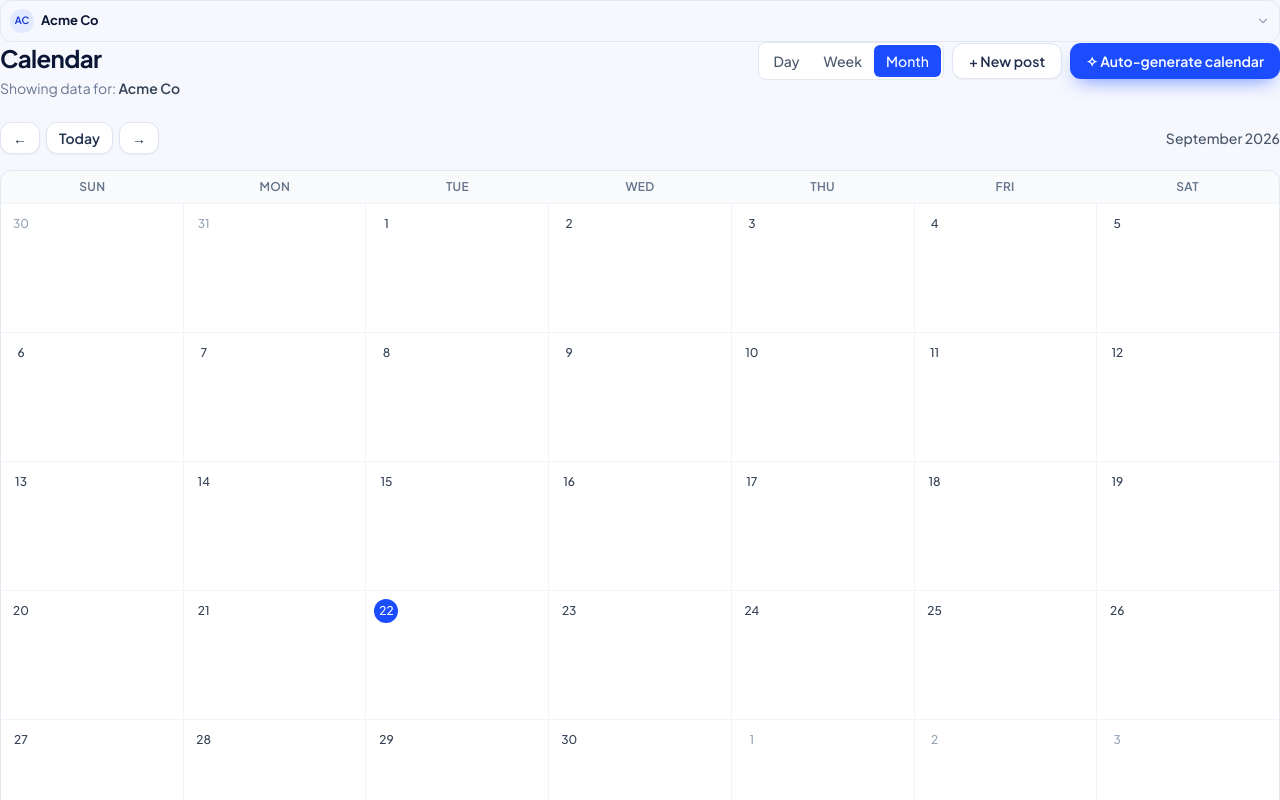
Scenario: CalendarPage › creates a new event through the form and round-trips it through the API
The image size is (1280, 800).
Click the button "+ New post": (1007, 60) [952,42,1062,78]
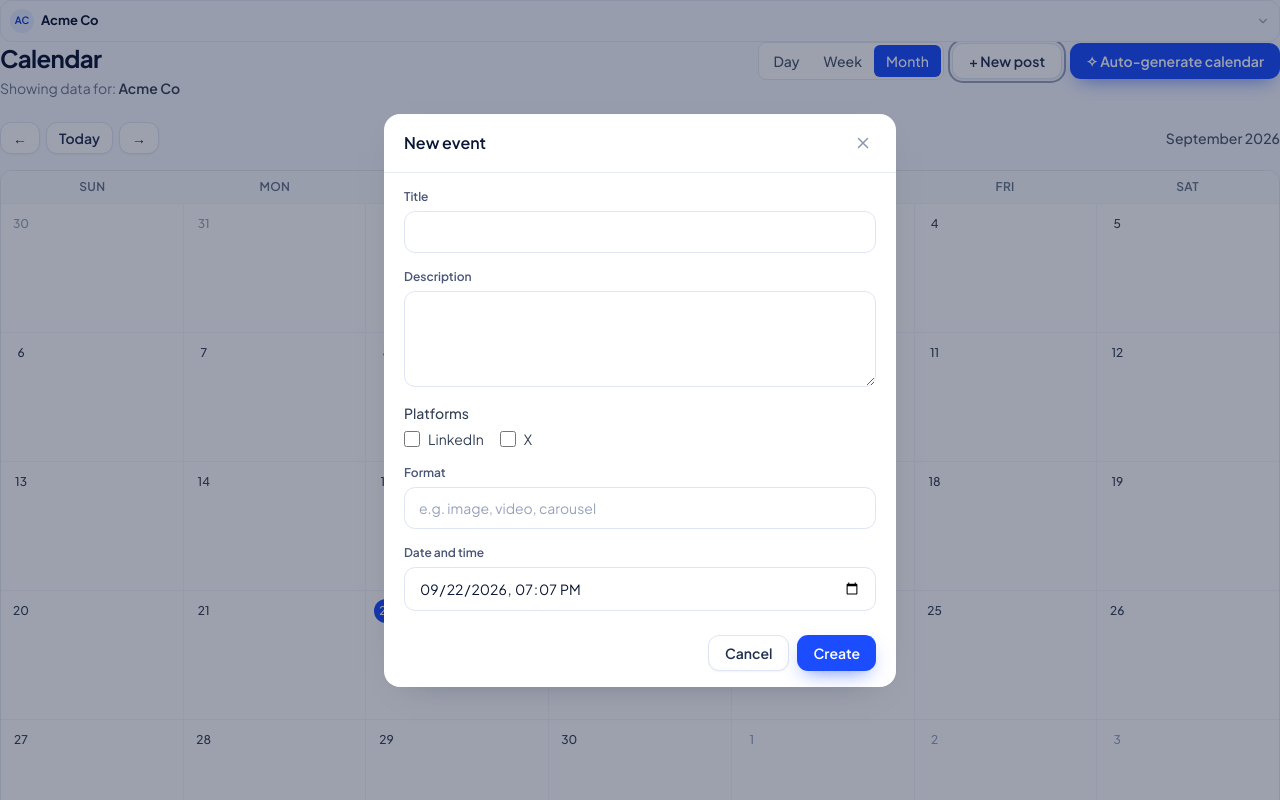
In the field labelled "Title": (640, 232) [404,210,876,252], type "New Launch"
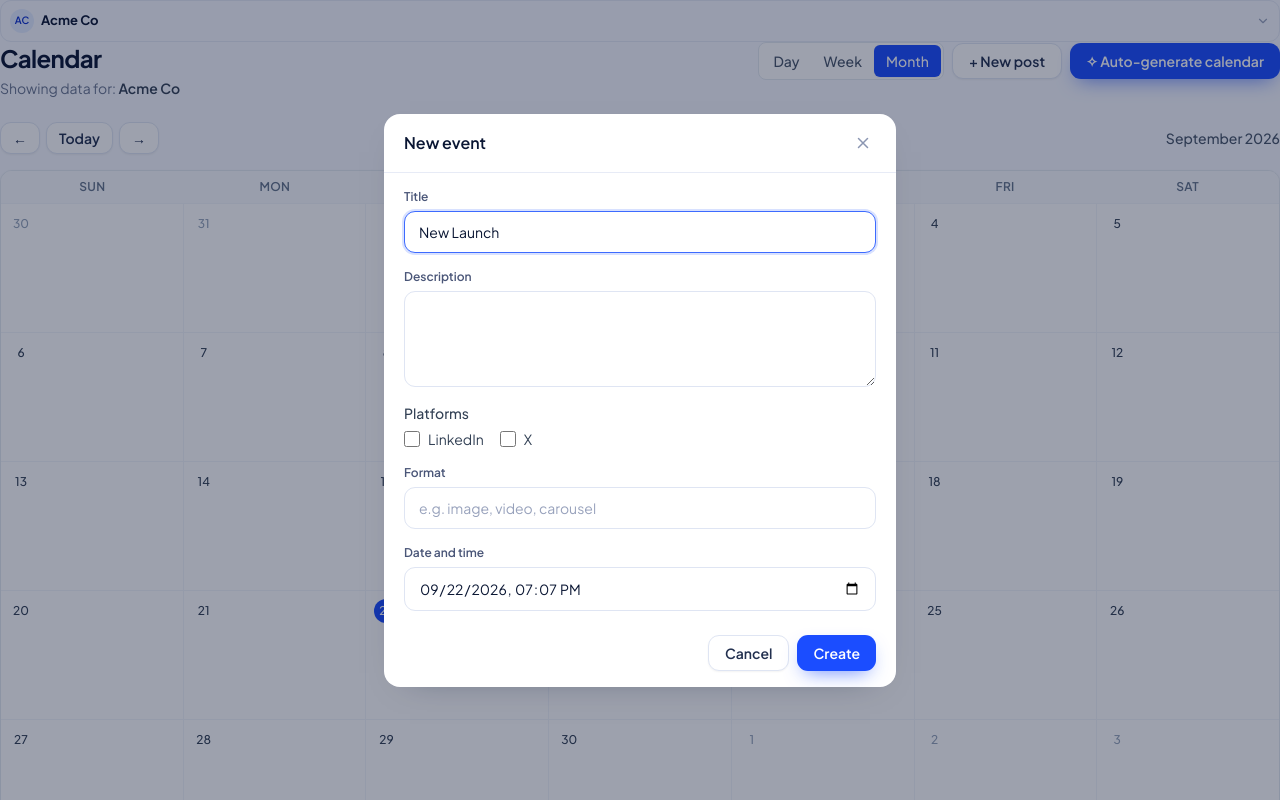
Click the checkbox labelled "LinkedIn": (412, 438) [404,430,420,446]
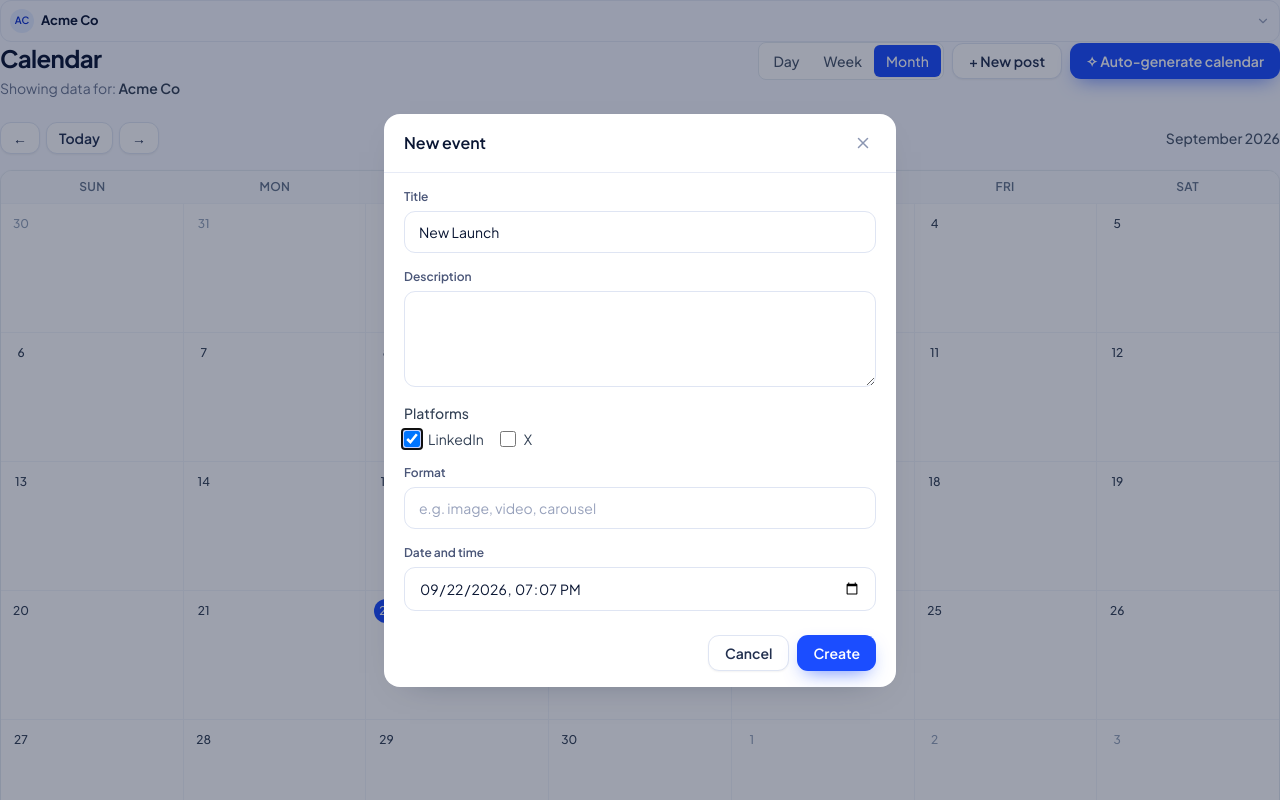
In the field labelled "Format": (640, 508) [404,486,876,528], type "image"
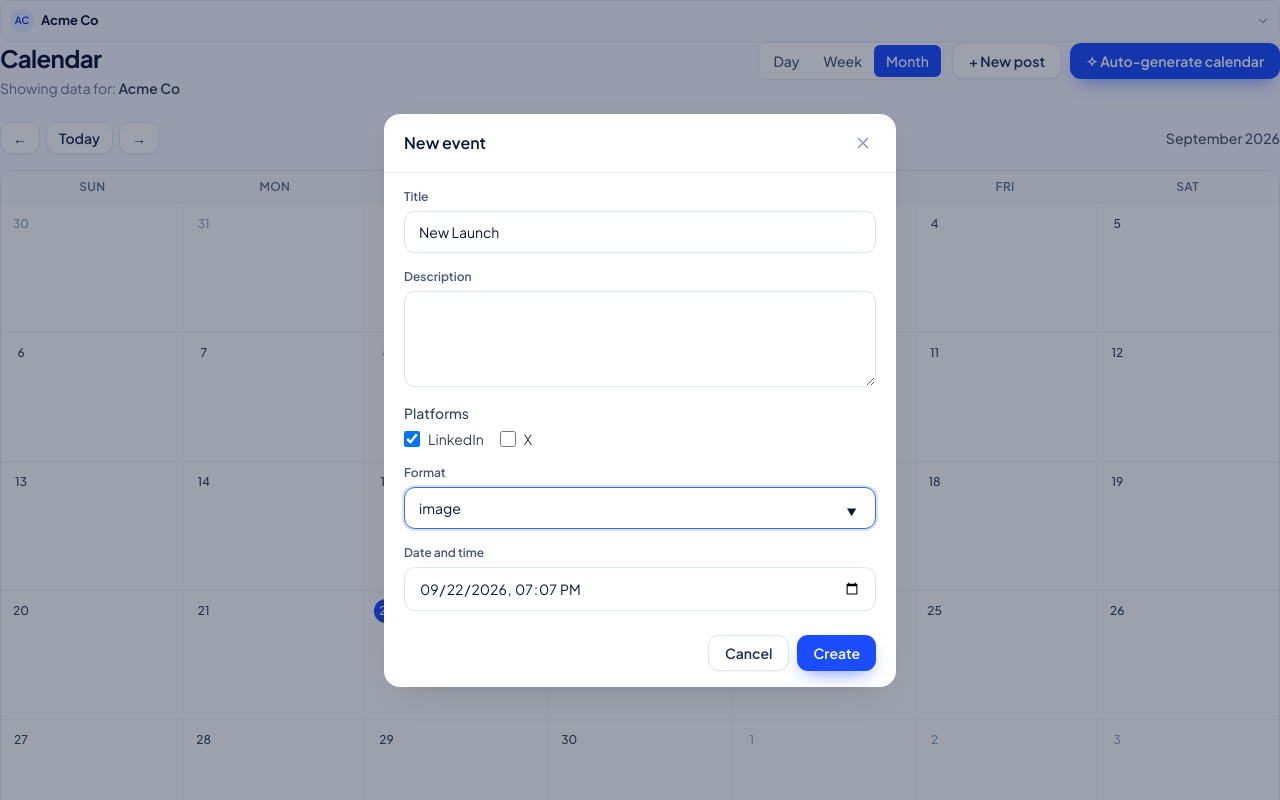
Click the button "Create": (837, 652) [798,634,876,670]
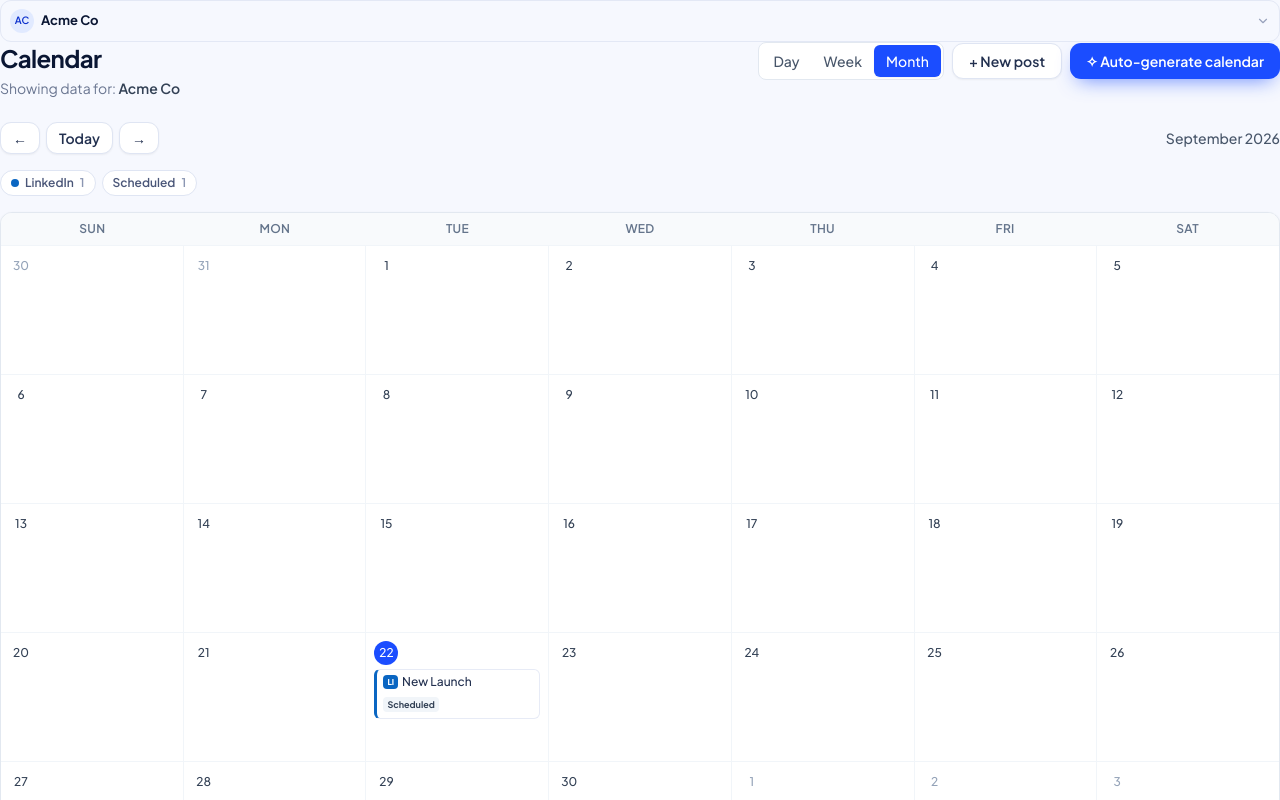
Check: the button "LI New Launch Scheduled" is shown, box [374,668,540,718]
Check: the dialog is gone
